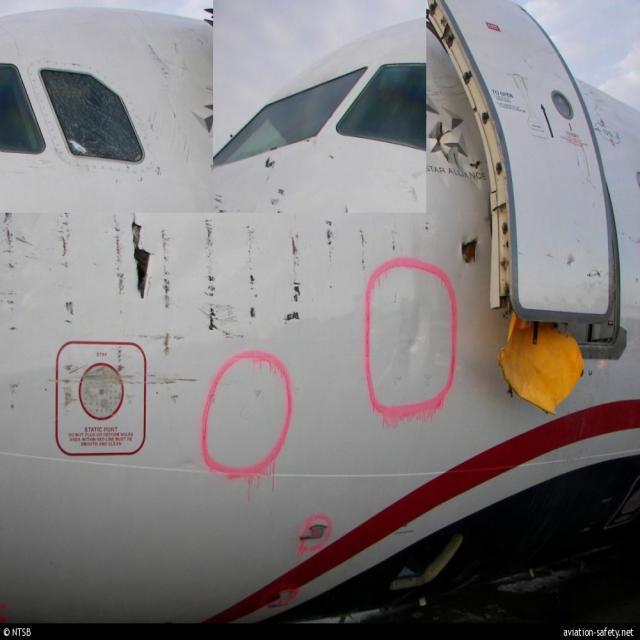crack: (122, 210, 160, 306), (456, 230, 484, 272)
dent: (396, 300, 434, 366)
